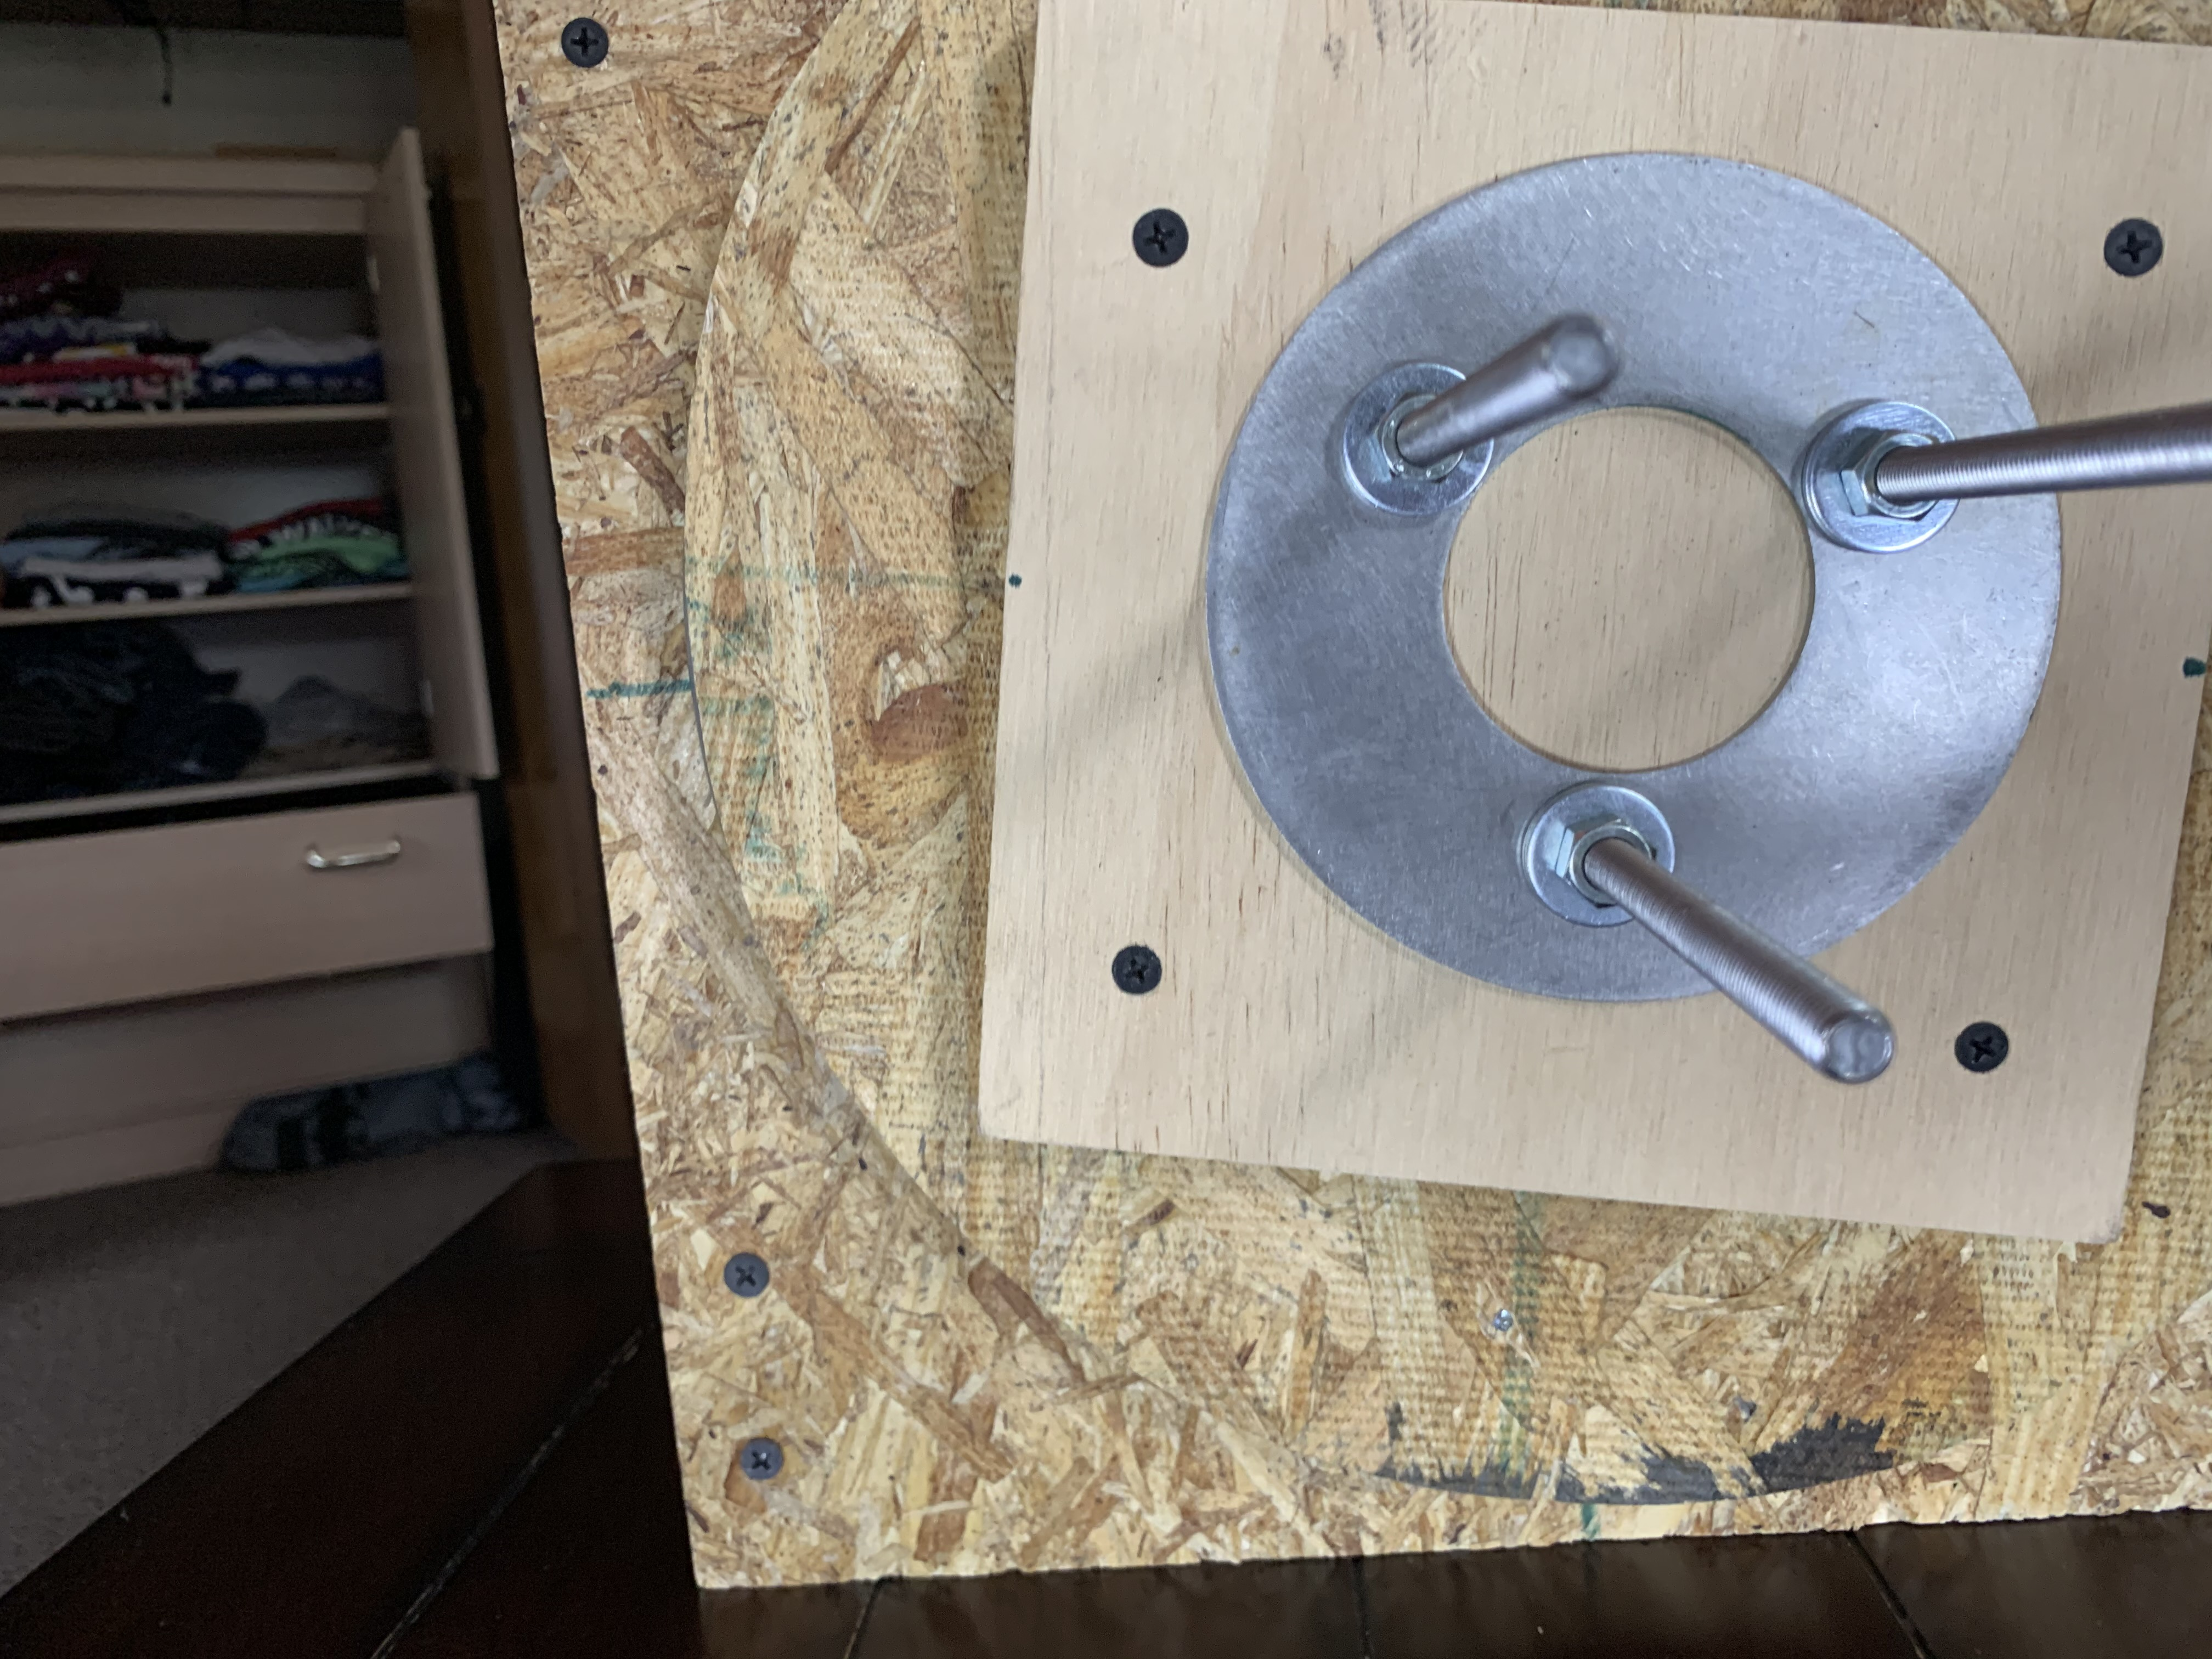bolt: (1338, 361, 1500, 519), (1801, 394, 1958, 556), (1519, 781, 1681, 934)
